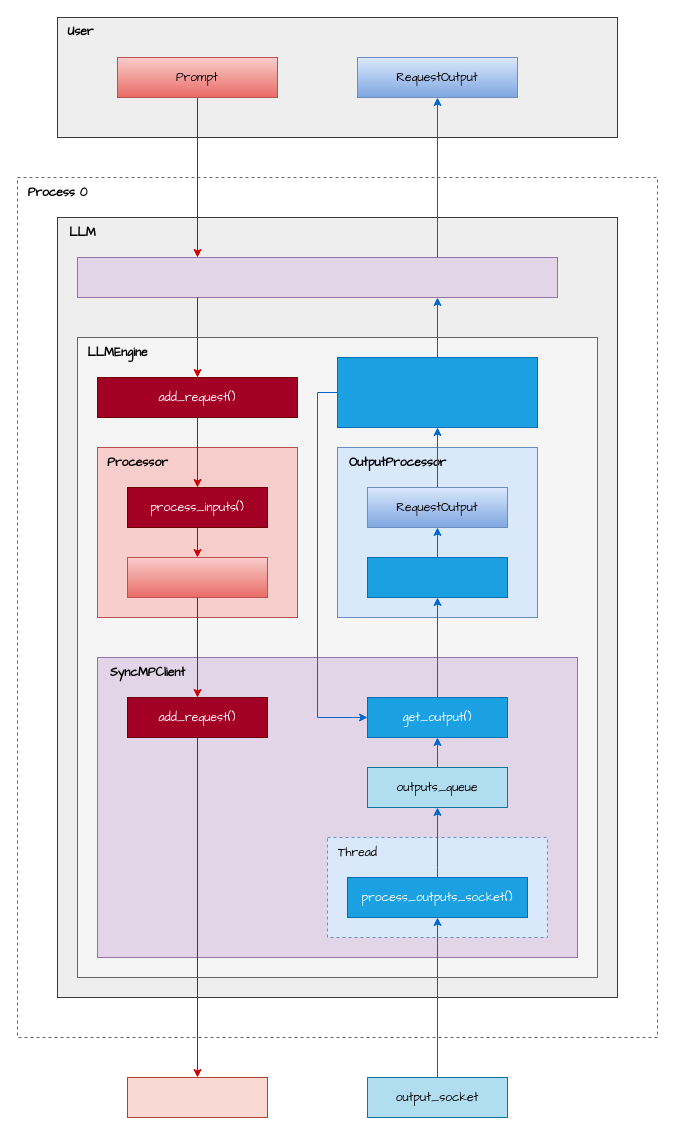
Some shapes in this 675 by 1135 pixel diagram are drawn without their labels. Here are the shapes that lost their labels. From the top down, the centre of each, then its label:
At (317,277): "generate()".
At (437,392): "has_unfinished_requests() ? loop: step()".
At (197,577): "EngineCoreRequest".
At (437,577): "process_outputs()".
At (197,1097): "input_socket".
